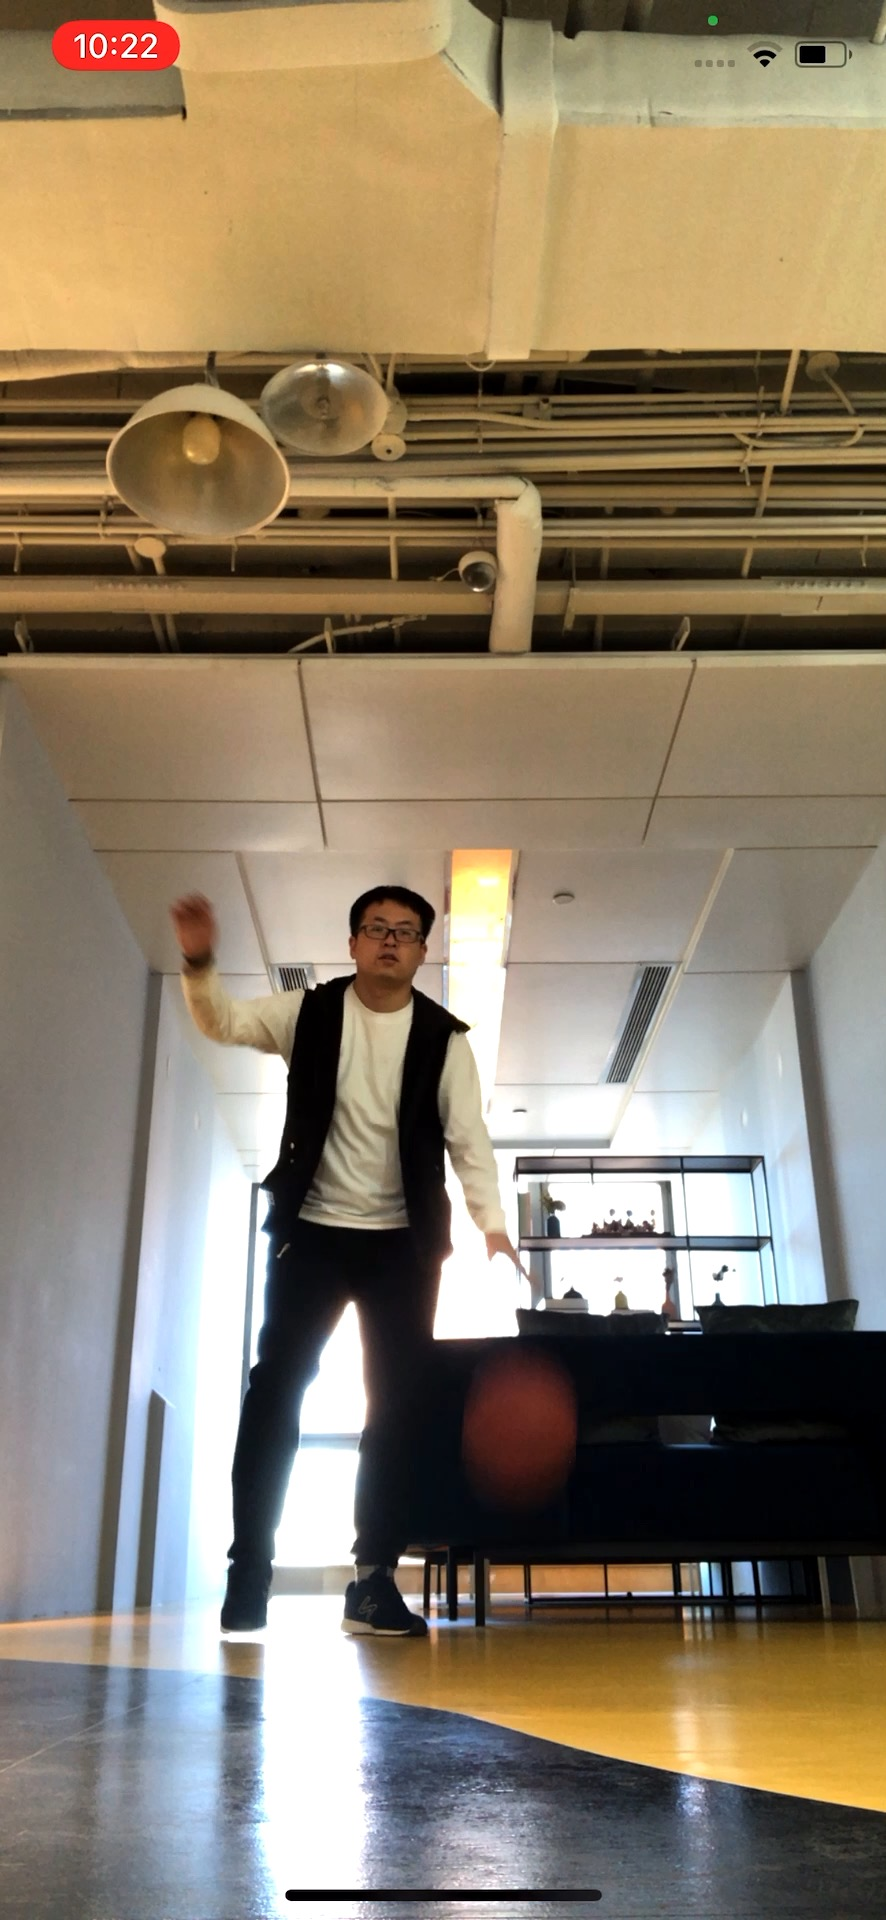ball: (461, 1368, 571, 1480)
